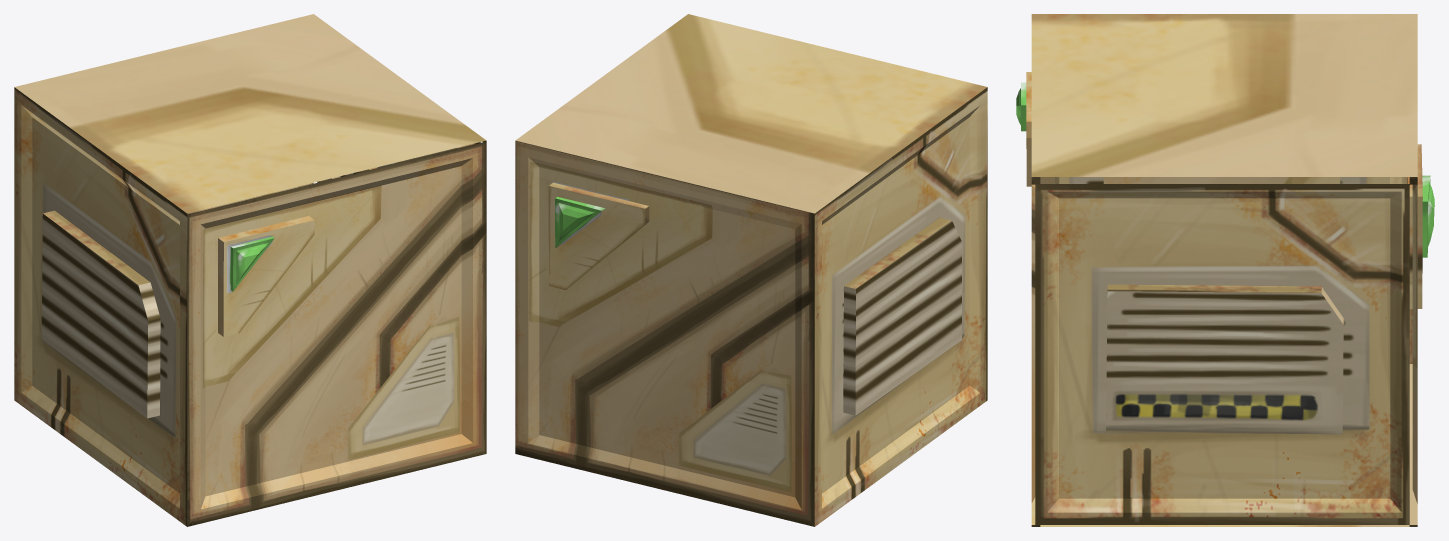
The model's file is Chest.fbx.
3 renders of one model, left to right at view 1: azimuth 30°, elevation 25°; view 2: azimuth 150°, elevation 25°; view 3: azimuth 270°, elevation 25°, orthographic. The views are drawn at different scales.
Parts seen in each view (by area): view 1: Cube.005; view 2: Cube.005; view 3: Cube.005.
Boxes of the visible parts, x1,y1,x2,y2 form: Cube.005: [14, 14, 486, 526]; Cube.005: [515, 14, 987, 526]; Cube.005: [1016, 14, 1434, 526].
Bounding box in the file's own units: 1.26 × 1.31 × 1.21.
